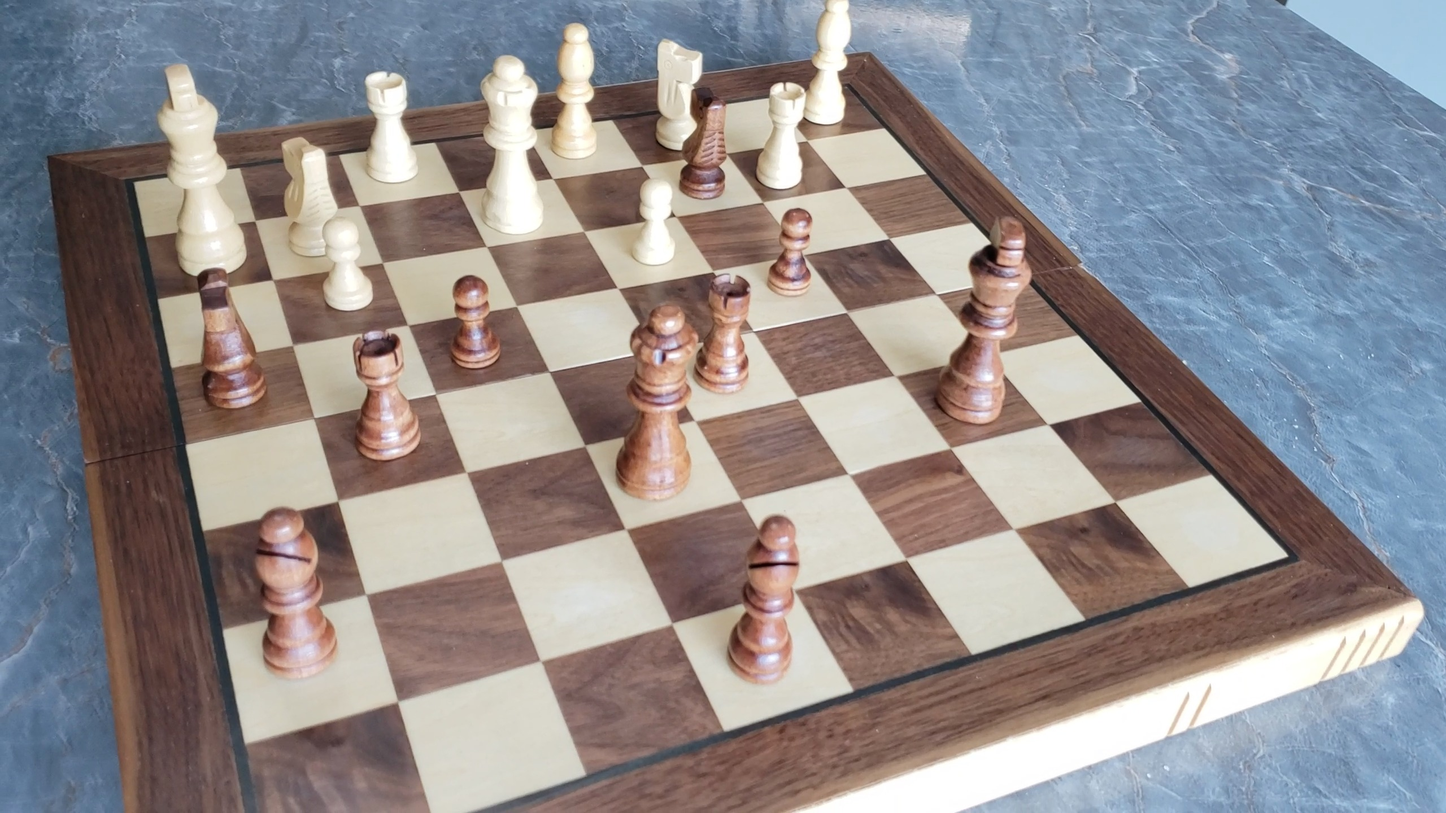black-bishop: (217, 499, 356, 692), (718, 509, 801, 700)
black-king: (934, 211, 1033, 426)
black-knight: (176, 265, 284, 415), (680, 91, 729, 198)
black-pawn: (448, 272, 500, 371), (766, 204, 817, 298)
black-queen: (613, 300, 699, 502)
black-rook: (350, 326, 422, 462), (697, 270, 755, 394)
white-bishop: (550, 18, 600, 161), (802, 0, 856, 128)
white-king: (131, 61, 257, 270)
white-knight: (277, 133, 343, 260), (651, 35, 707, 152)
white-pawn: (311, 213, 380, 316), (624, 173, 686, 272)
white-queen: (476, 50, 548, 239)
white-rook: (359, 66, 420, 187), (754, 77, 811, 193)
